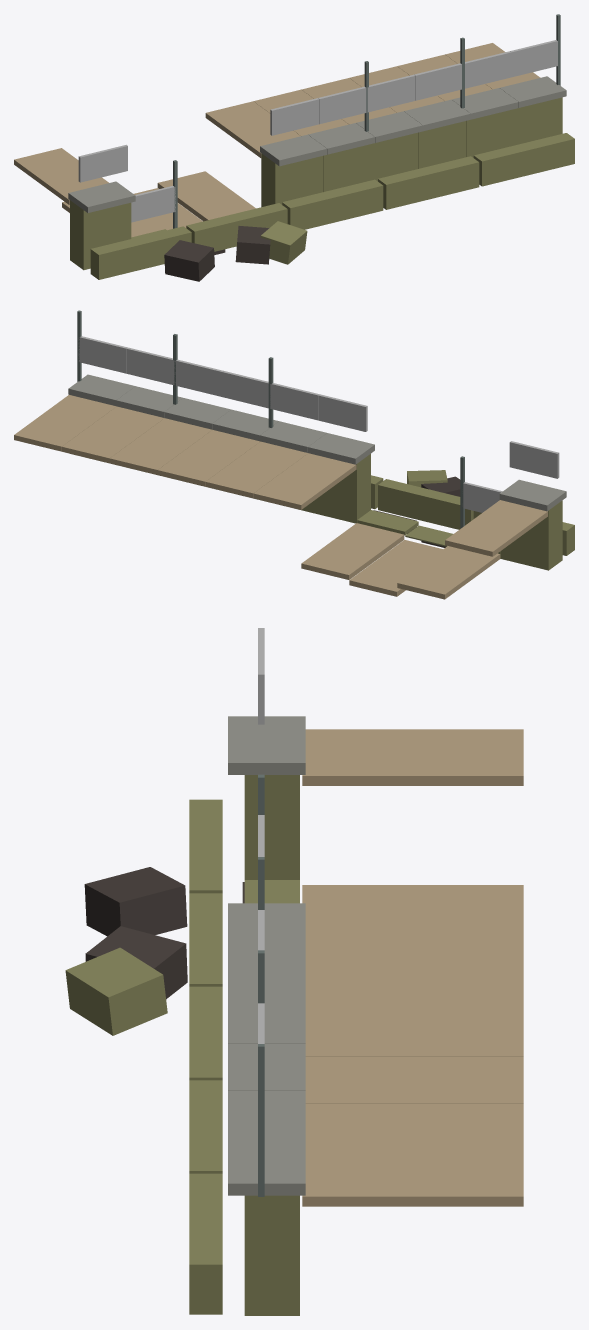
The model's file is SM_MuroRampa_v1_BajoValla_e2_MuyDanado_LOD1.fbx.
3 renders of one model, top to bottom at view 1: azimuth 30°, elevation 25°; view 2: azimuth 150°, elevation 25°; view 3: azimuth 270°, elevation 25°, orthographic. The views are drawn at different scales.
Parts seen in each view (by area): view 1: SM_muro_rampa_v6_LOD1; view 2: SM_muro_rampa_v6_LOD1; view 3: SM_muro_rampa_v6_LOD1.
Part boxes in pixels (x1,y1,x2,y2): SM_muro_rampa_v6_LOD1: (14,14,574,281); SM_muro_rampa_v6_LOD1: (14,310,574,599); SM_muro_rampa_v6_LOD1: (65,628,523,1315).
Size of the model in its own units: 10.03 by 3.03 by 4.14.
